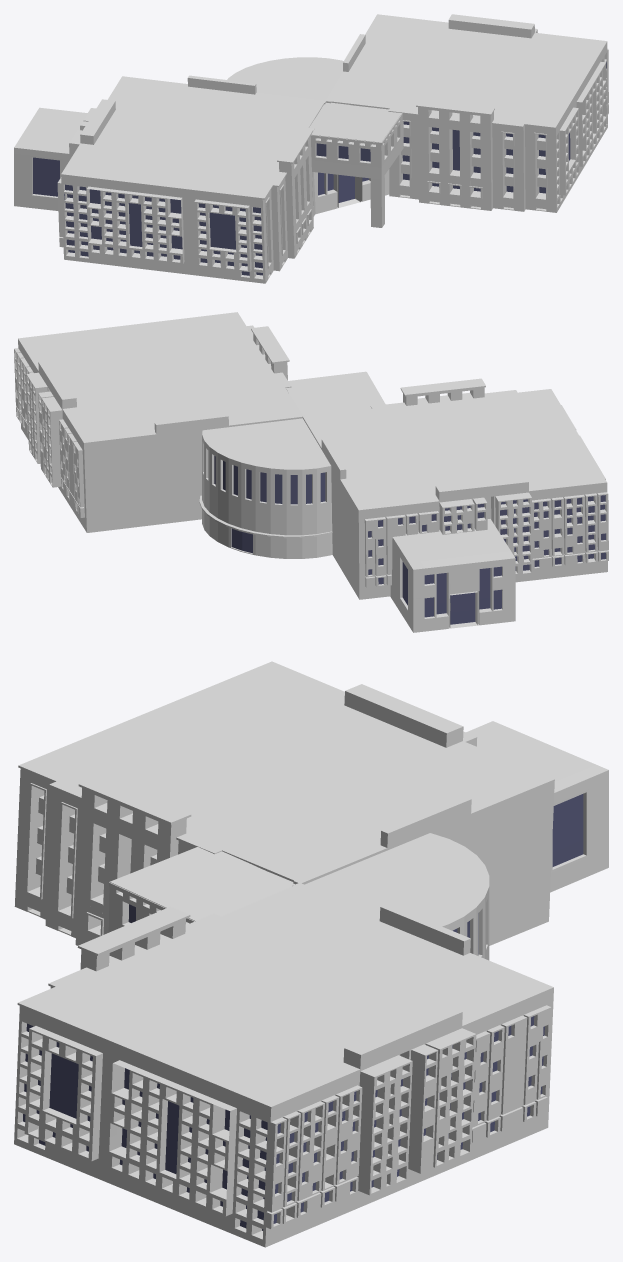
File: ECE.fbx
3 renders of one model, top to bottom at view 1: azimuth 30°, elevation 25°; view 2: azimuth 150°, elevation 25°; view 3: azimuth 270°, elevation 25°, orthographic. The views are drawn at different scales.
Visible parts, largest first — view 1: Cube.003; view 2: Cube.003; view 3: Cube.003.
Part boxes in pixels (x1,y1,x2,y2): Cube.003: [14, 14, 608, 283]; Cube.003: [14, 312, 608, 632]; Cube.003: [14, 661, 608, 1247].
Size of the model in its own units: 27129 by 4547 by 15172.
